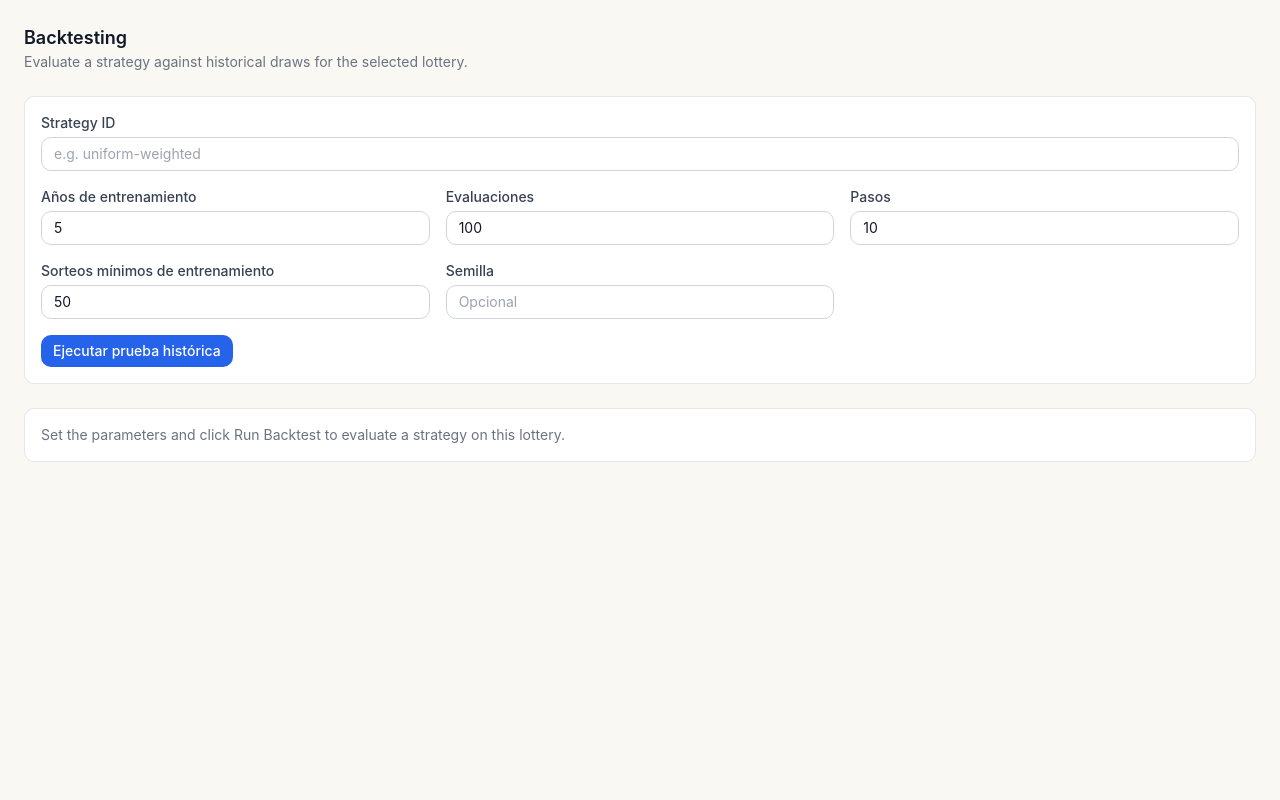
Test: Backtesting › shows an error state and recovers via the retry button
expect the heading "Backtesting" is shown: met, box [24, 27, 127, 48]
Type "uniform-weighted" into the field labelled "Strategy ID". click: x=640, y=154
box: [41, 137, 1239, 171]
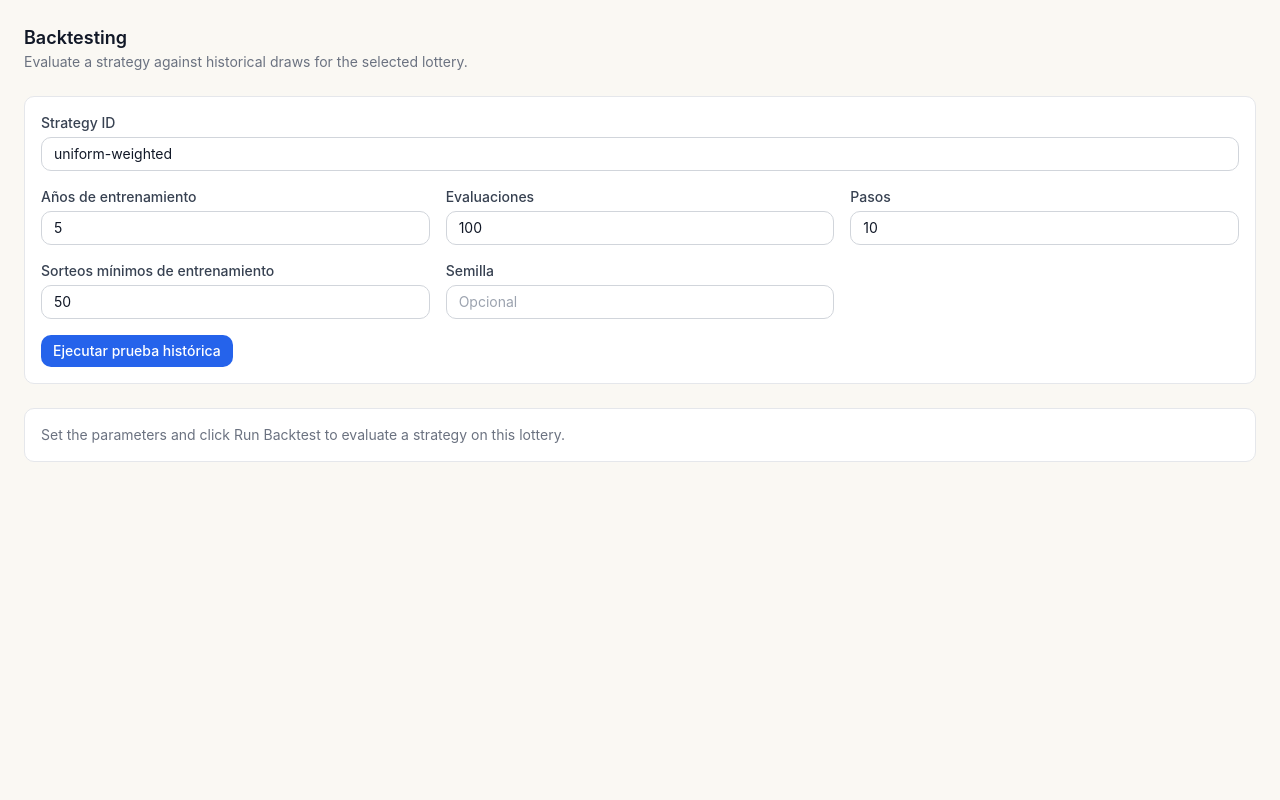
Click the button "Ejecutar prueba histórica". click: x=137, y=351
box: [41, 335, 233, 367]
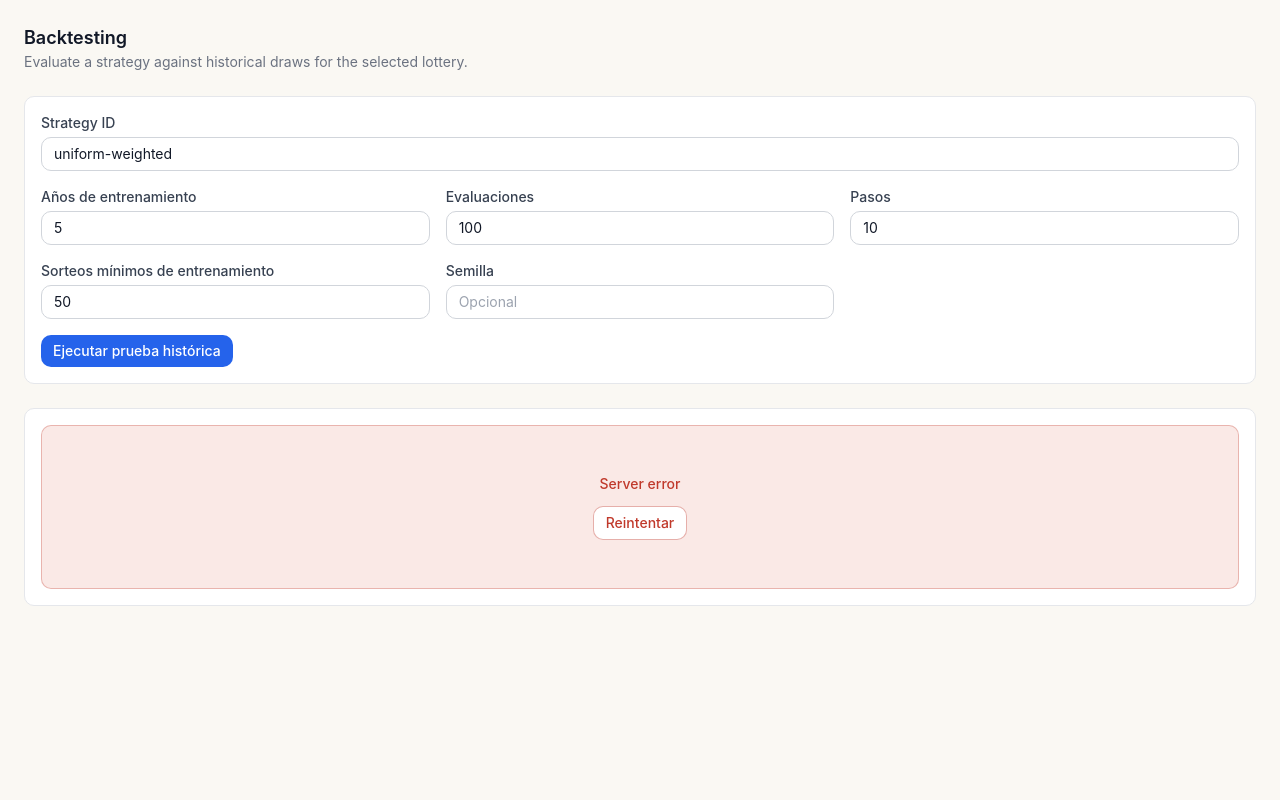
expect the message shows "Server error": met, box [600, 475, 680, 492]
expect the button "Reintentar" is shown: met
Click the button "Reintentar". click: x=640, y=523
box: [593, 506, 687, 540]
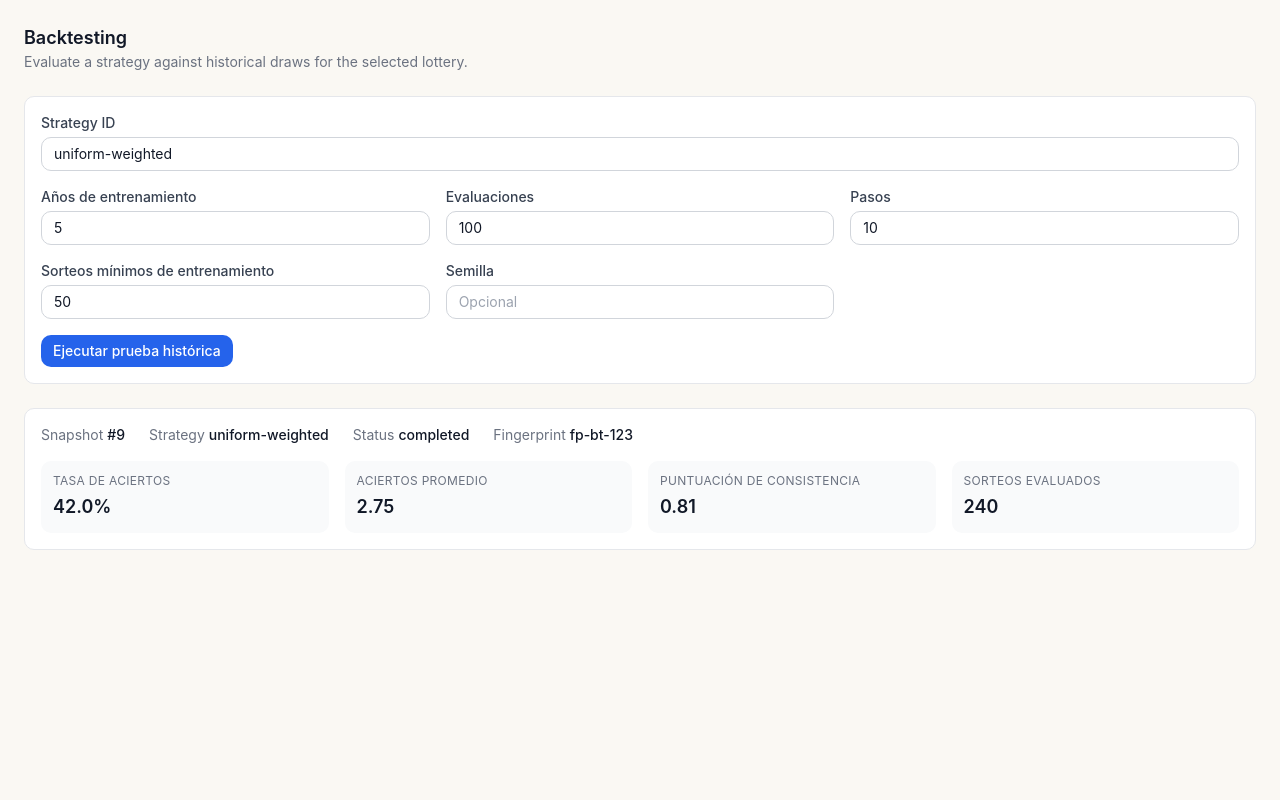
expect the text "42.0%" is shown: met, box [53, 496, 111, 517]
expect the message "Server error Reintentar" is gone: met
